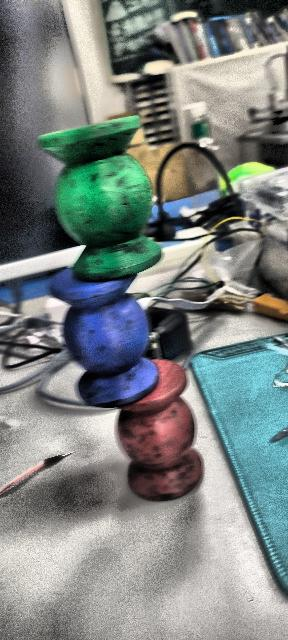blue: (48, 266, 158, 408)
green: (35, 116, 163, 282)
red: (112, 354, 202, 502)
